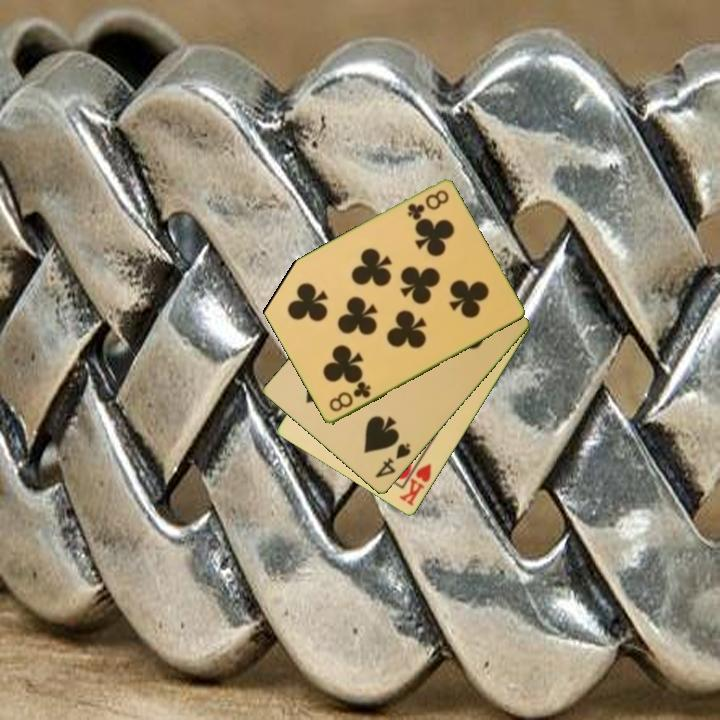4s: (371, 440, 414, 481)
8c: (325, 378, 374, 415), (404, 186, 452, 223)
Kh: (396, 452, 435, 509)
